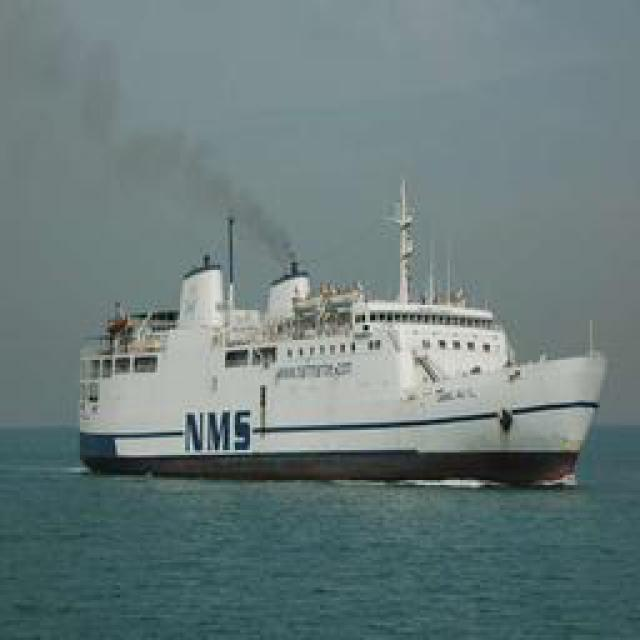Ship: (75, 171, 600, 476)
